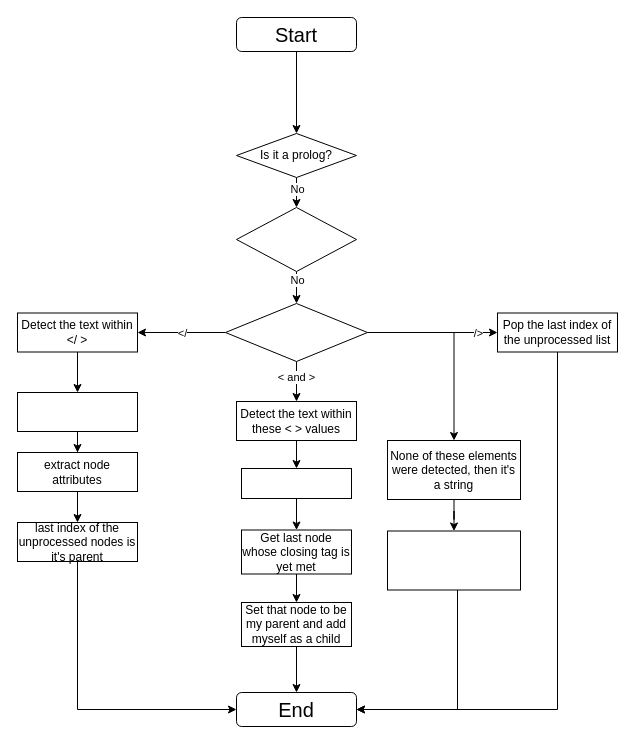
Image size: 635x744. Some labels were removed from this diagram. The centre of each missing label's shape, as x and y in pixels:
"Detect <, >, /> and </" belongs at point 296,332.
"extract node name" belongs at point 77,412.
"Extract the attributes" belongs at point 296,483.
"Get last node of the unprocessed list, set string to that nodes inner content" belongs at point 453,560.
"Is it a comment?" belongs at point 296,239.
